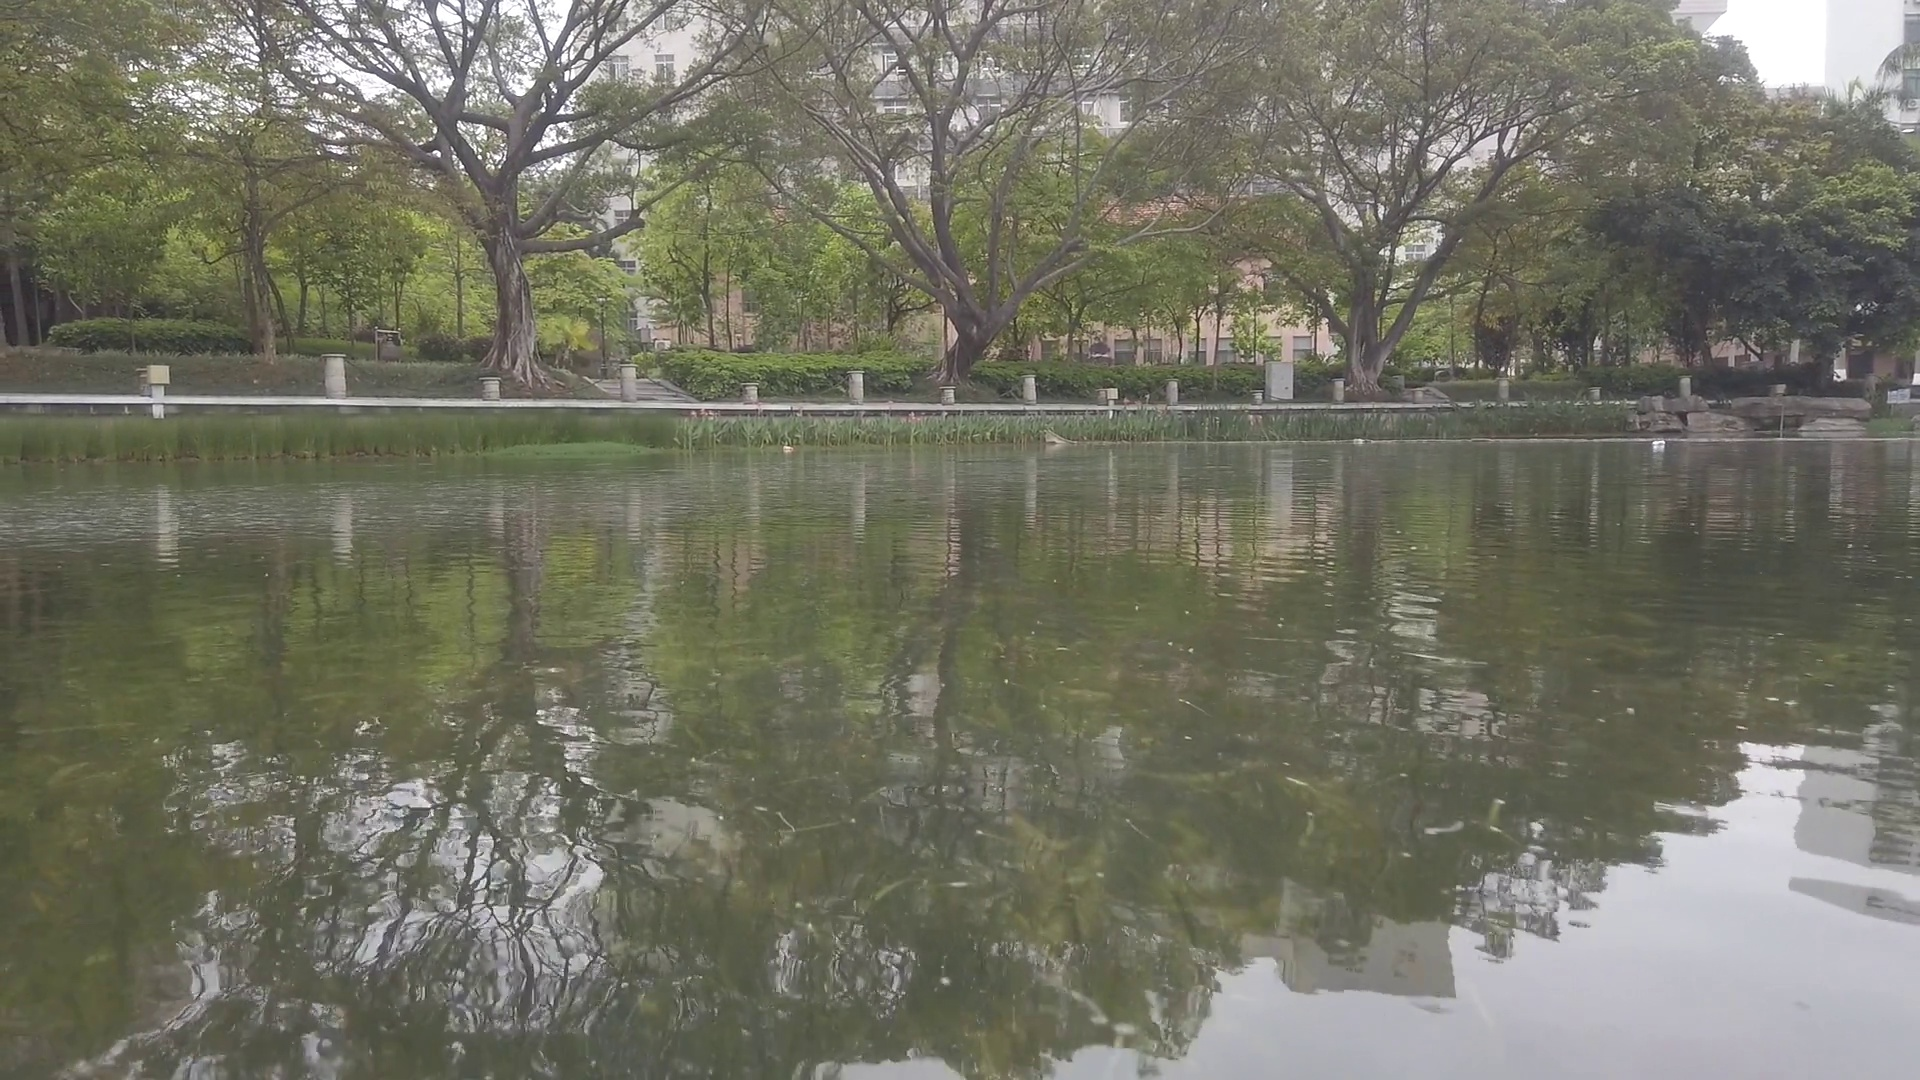bottle: (1654, 440, 1667, 447), (1354, 438, 1369, 443), (783, 444, 793, 451)
